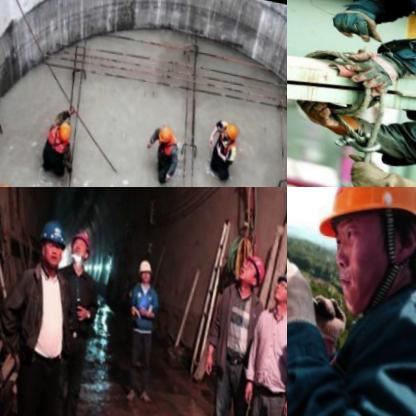helmet: (296, 187, 416, 321), (35, 213, 71, 270), (234, 247, 269, 287), (67, 222, 95, 266), (268, 259, 287, 308), (52, 113, 73, 148), (132, 251, 154, 280), (153, 118, 175, 145), (219, 114, 239, 140)
